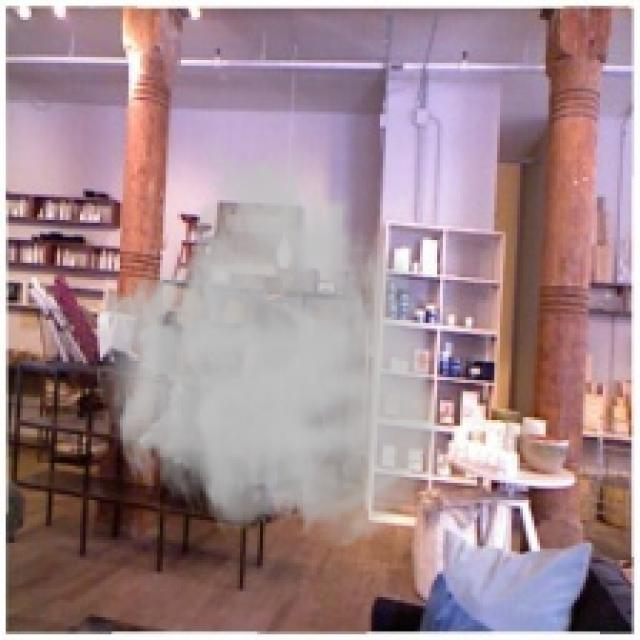smoke: (91, 132, 448, 552)
